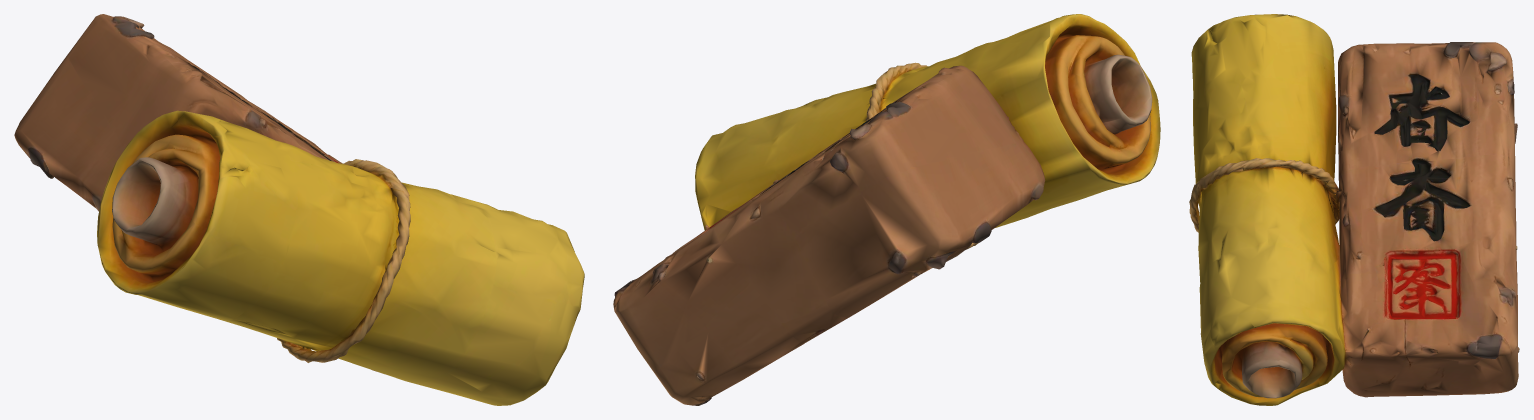
The model's file is offer-fuda.glb.
The picture shows the model from 3 angles, left to right: view 1: azimuth 30°, elevation 25°; view 2: azimuth 150°, elevation 25°; view 3: azimuth 270°, elevation 25°; orthographic projection. The views are drawn at different scales.
Parts seen in each view (by area): view 1: tripo_node_77c2340a-b394-4de1-aa71-36b0809f21f2; view 2: tripo_node_77c2340a-b394-4de1-aa71-36b0809f21f2; view 3: tripo_node_77c2340a-b394-4de1-aa71-36b0809f21f2.
Boxes of the visible parts, <box> form: tripo_node_77c2340a-b394-4de1-aa71-36b0809f21f2: <box>14,14,584,405</box>; tripo_node_77c2340a-b394-4de1-aa71-36b0809f21f2: <box>613,14,1160,405</box>; tripo_node_77c2340a-b394-4de1-aa71-36b0809f21f2: <box>1189,14,1519,405</box>.
Bounding box in the file's own units: 0.9996 × 0.7607 × 0.7938.
Materials: 1 (1 with a texture image).
